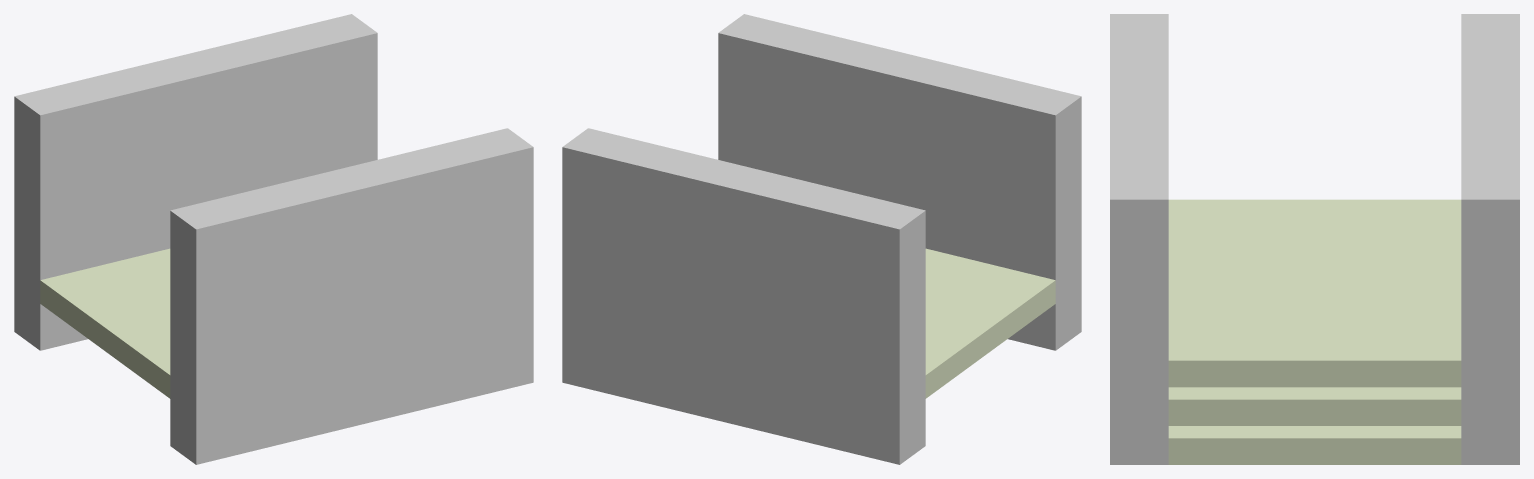
Rendered from B7_Enter2.glb.
The picture shows the model from 3 angles, left to right: view 1: azimuth 30°, elevation 25°; view 2: azimuth 150°, elevation 25°; view 3: azimuth 270°, elevation 25°; orthographic projection. The views are drawn at different scales.
Parts seen in each view (by area): view 1: B7_Enter2; view 2: B7_Enter2; view 3: B7_Enter2.
Part boxes in pixels (x1,y1,x2,y2): B7_Enter2: (14, 14, 533, 464); B7_Enter2: (562, 14, 1081, 464); B7_Enter2: (1110, 14, 1519, 464).
Bounding box in the file's own units: 15 × 10 × 14.
